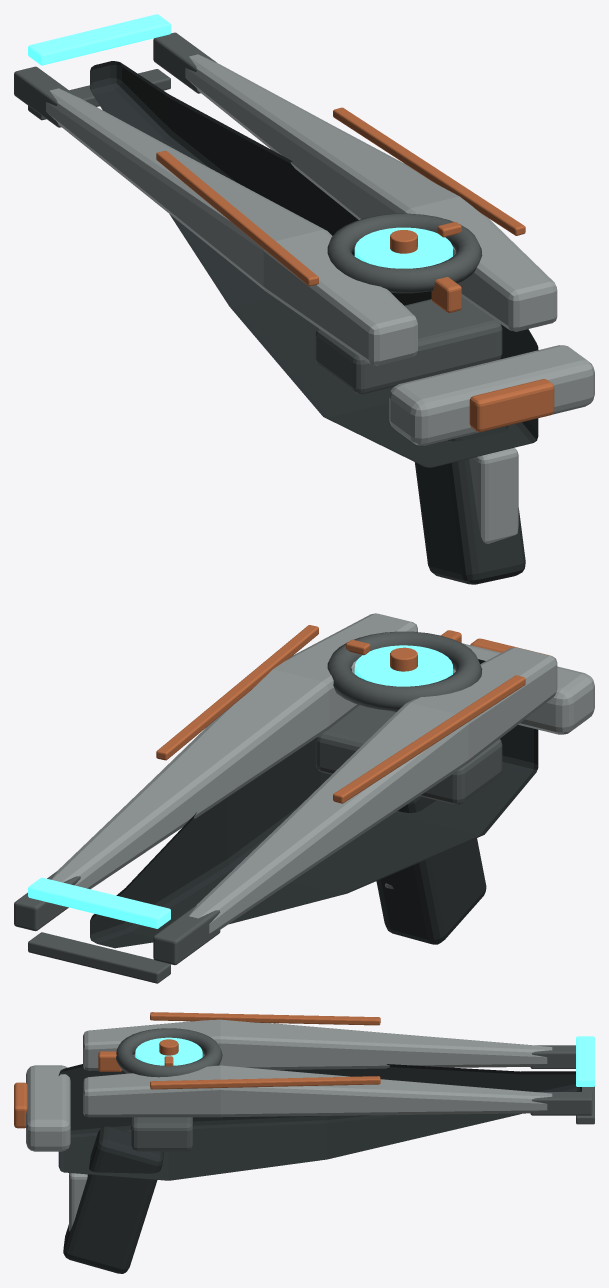
File: kestrel_induction_launcher.glb
3 renders of one model, top to bottom at view 1: azimuth 30°, elevation 25°; view 2: azimuth 150°, elevation 25°; view 3: azimuth 270°, elevation 25°, orthographic. The views are drawn at different scales.
Visible parts, largest first — view 1: Aerodynamic load frame, Glacier aerofoil -1, Glacier aerofoil +1, Rear balance foil, Lower receiver bridge, Reinforced field grip, Seated steel disc, Grip ceramic slab, Upper launch gate, Rear expedition latch, Expedition index +1, Expedition index -1 (+5 smaller); view 2: Aerodynamic load frame, Glacier aerofoil -1, Glacier aerofoil +1, Reinforced field grip, Seated steel disc, Lower receiver bridge, Upper launch gate, Lower launch gate, Rear balance foil, Expedition index -1, Expedition index +1, Seated relay core (+3 smaller); view 3: Aerodynamic load frame, Glacier aerofoil +1, Glacier aerofoil -1, Reinforced field grip, Rear balance foil, Seated steel disc, Lower receiver bridge, Expedition index +1, Expedition index -1, Rectangular accelerator +1, Seated relay core, Upper launch gate (+4 smaller).
Boxes of the visible parts, <box> form: Aerodynamic load frame: <box>90,61,538,467</box>; Glacier aerofoil -1: <box>46,88,417,365</box>; Glacier aerofoil +1: <box>185,54,557,331</box>; Rear balance foil: <box>389,345,594,445</box>; Lower receiver bridge: <box>315,297,502,394</box>; Reinforced field grip: <box>414,425,525,584</box>; Seated steel disc: <box>327,213,482,293</box>; Grip ceramic slab: <box>469,448,518,543</box>; Upper launch gate: <box>28,14,170,65</box>; Rear expedition latch: <box>469,379,554,432</box>; Expedition index +1: <box>333,107,525,235</box>; Expedition index -1: <box>156,150,318,286</box>; Aerodynamic load frame: <box>90,659,538,948</box>; Glacier aerofoil -1: <box>189,647,557,933</box>; Glacier aerofoil +1: <box>51,613,417,889</box>; Reinforced field grip: <box>376,796,486,944</box>; Seated steel disc: <box>327,631,482,710</box>; Lower receiver bridge: <box>315,705,502,804</box>; Upper launch gate: <box>28,877,170,928</box>; Lower launch gate: <box>28,932,170,983</box>; Rear balance foil: <box>453,643,594,734</box>; Expedition index -1: <box>333,675,525,803</box>; Expedition index +1: <box>156,625,318,760</box>; Seated relay core: <box>354,645,452,686</box>; Aerodynamic load frame: <box>58,1064,581,1180</box>; Glacier aerofoil +1: <box>83,1065,552,1117</box>; Glacier aerofoil -1: <box>83,1019,552,1070</box>; Reinforced field grip: <box>63,1126,163,1273</box>; Rear balance foil: <box>26,1065,70,1151</box>; Seated steel disc: <box>116,1028,222,1077</box>; Lower receiver bridge: <box>131,1117,192,1151</box>; Expedition index +1: <box>150,1076,380,1089</box>; Expedition index -1: <box>150,1012,380,1025</box>; Rectangular accelerator +1: <box>530,1092,592,1115</box>; Seated relay core: <box>135,1037,202,1065</box>; Upper launch gate: <box>576,1036,594,1086</box>.
Size of the model in its own units: 0.4996 by 0.6929 by 1.69.
